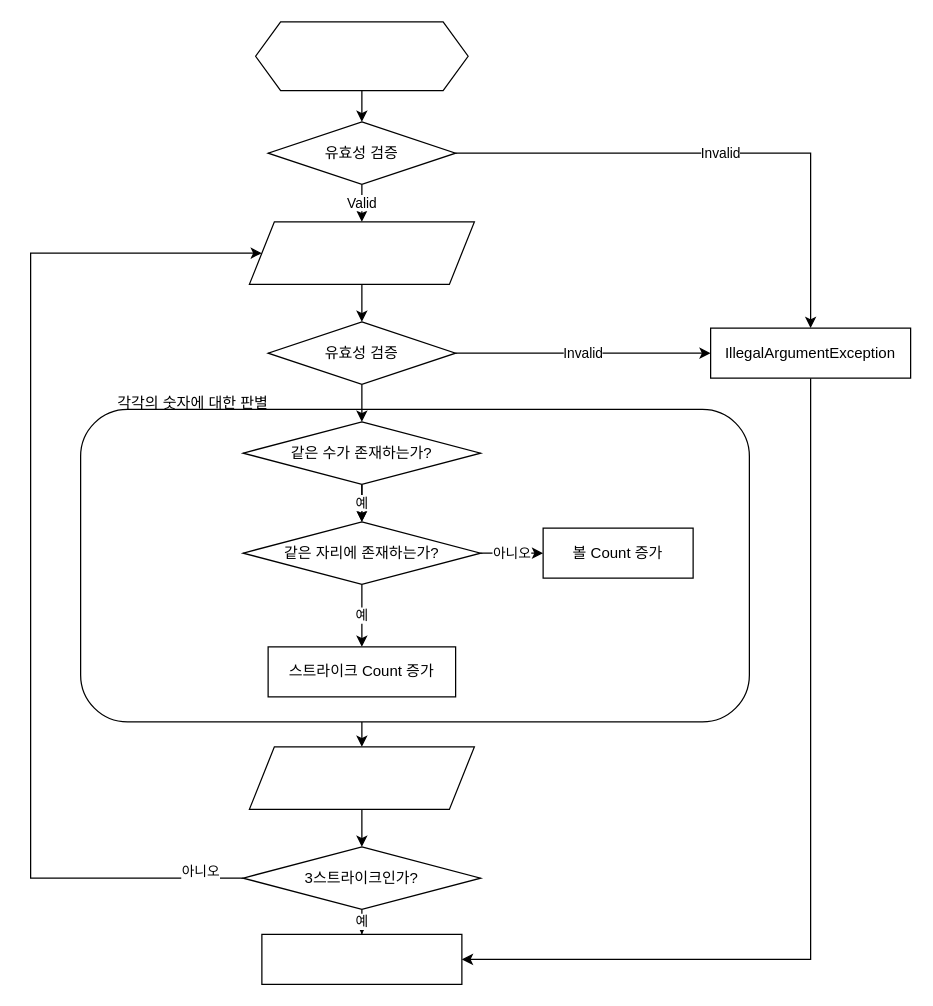
Image size: 933x1006. Some labels were removed from this diagram. The shapes that lost their labels are listed below. From the top down, each one's box as (x1, y1, x2, y2) in pixels, then its label:
(254, 21, 468, 91): 컴퓨터가 3자리수를 가진다
(248, 221, 474, 284): 3자리수를 입력받는다.
(248, 746, 474, 809): 결과를 출력한다
(261, 933, 462, 984): 애플리케이션 종료
